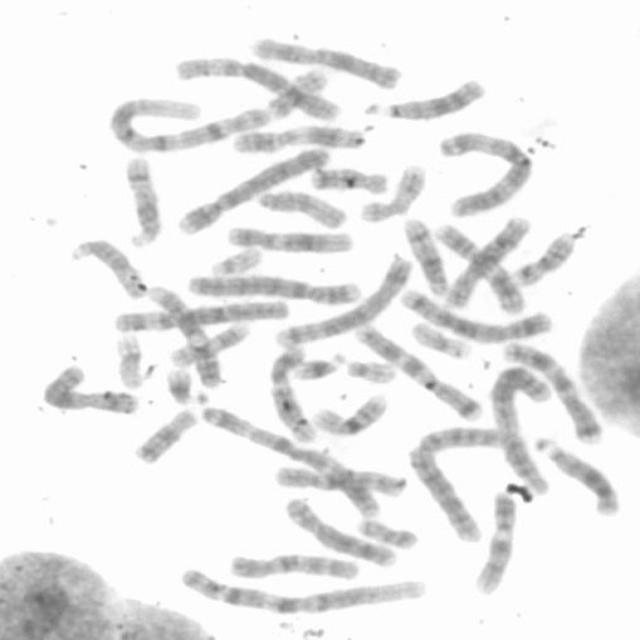A1: (171, 561, 430, 617), (100, 90, 273, 154)
A2: (405, 420, 538, 543), (486, 359, 558, 496)
A3: (198, 398, 388, 519), (434, 124, 538, 218)
B4: (170, 140, 332, 237), (180, 268, 362, 306)
B5: (269, 250, 416, 348), (394, 283, 556, 343)
C10: (266, 459, 408, 499), (224, 546, 363, 582)
C11: (430, 215, 529, 314), (226, 120, 370, 155)
C12: (263, 339, 319, 444), (222, 220, 358, 255)
C6: (168, 52, 341, 123), (108, 294, 292, 334)
C7: (349, 317, 486, 423), (498, 335, 607, 445)
C8: (435, 212, 533, 312), (278, 492, 398, 570)
C9: (142, 280, 226, 389), (468, 485, 520, 597)
D13: (528, 430, 624, 518), (361, 73, 488, 121)
D14: (118, 152, 166, 248), (397, 214, 449, 296)
D15: (64, 234, 150, 301), (250, 182, 351, 231)
E16: (506, 226, 580, 288), (307, 386, 391, 437)
E17: (354, 158, 428, 223), (163, 317, 253, 368)
E18: (128, 403, 199, 465), (306, 161, 391, 196)
F19: (405, 316, 474, 361), (110, 328, 148, 390)
F20: (262, 64, 331, 121), (352, 512, 420, 550)
G21: (160, 362, 211, 407), (288, 346, 348, 382)
G22: (205, 241, 265, 278), (339, 354, 398, 385)
X: (245, 30, 405, 91), (35, 359, 142, 416)
